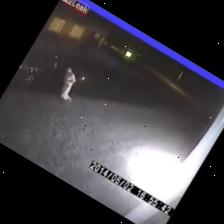person: (60, 68, 75, 101)
